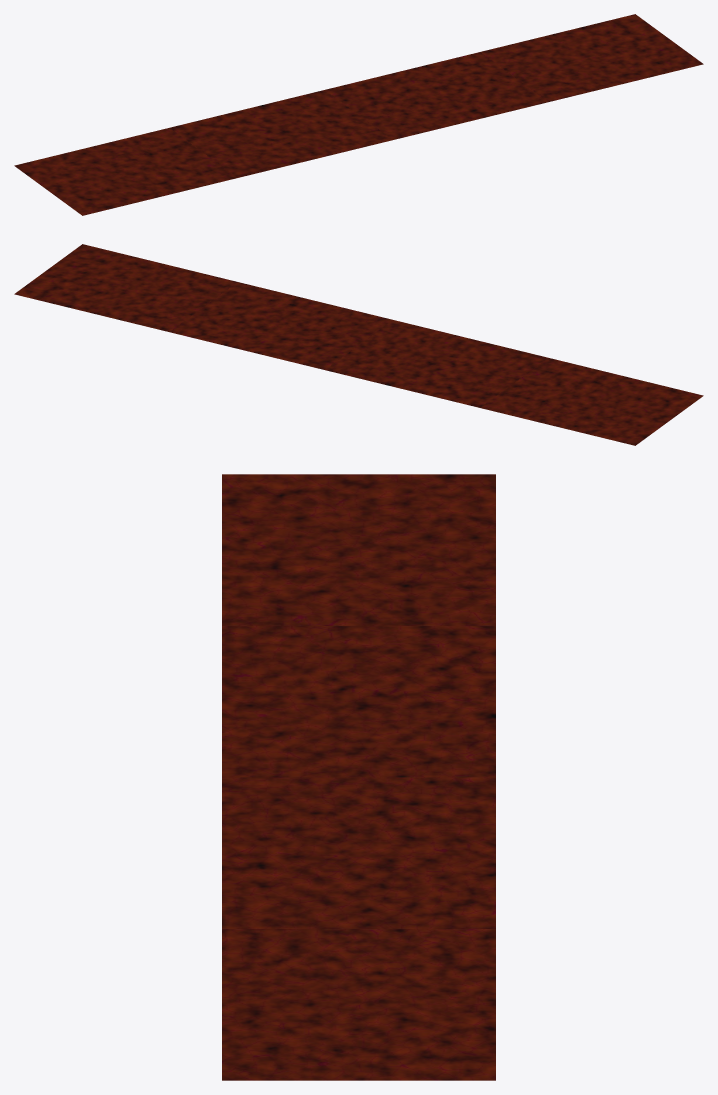
File: Ground.fbx
3 renders of one model, top to bottom at view 1: azimuth 30°, elevation 25°; view 2: azimuth 150°, elevation 25°; view 3: azimuth 270°, elevation 25°, orthographic. The views are drawn at different scales.
Visible parts, largest first — view 1: Ground_Baked; view 2: Ground_Baked; view 3: Ground_Baked.
Part boxes in pixels (x1,y1,x2,y2): Ground_Baked: (14,14,703,215); Ground_Baked: (14,244,703,445); Ground_Baked: (222,474,495,1080).
Bounding box in the file's own units: 16077 × 0 × 3073.
1 material, 1 textured.
